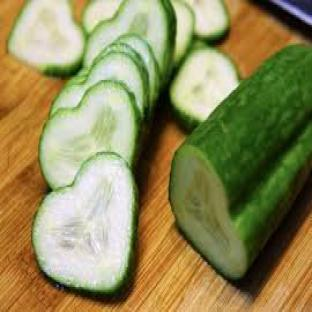Cucumber: (170, 46, 311, 278), (33, 154, 137, 293), (40, 81, 140, 188), (50, 47, 149, 118), (170, 46, 239, 128), (118, 36, 160, 106), (66, 69, 88, 86)
